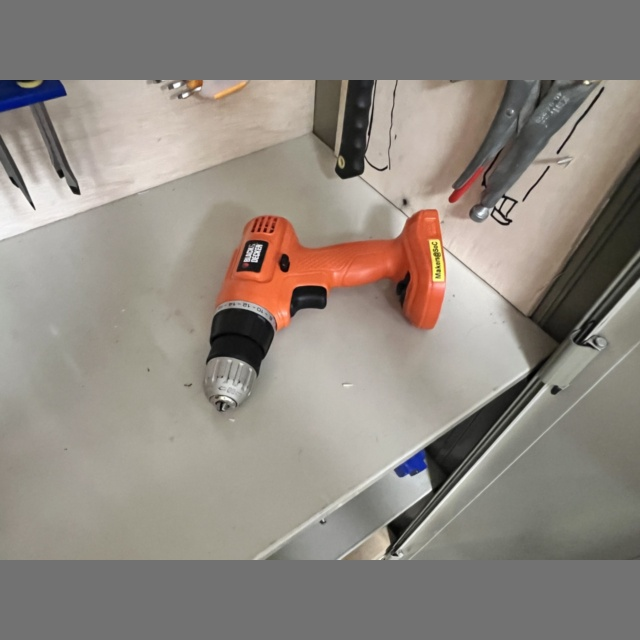drill: (204, 210, 446, 411)
